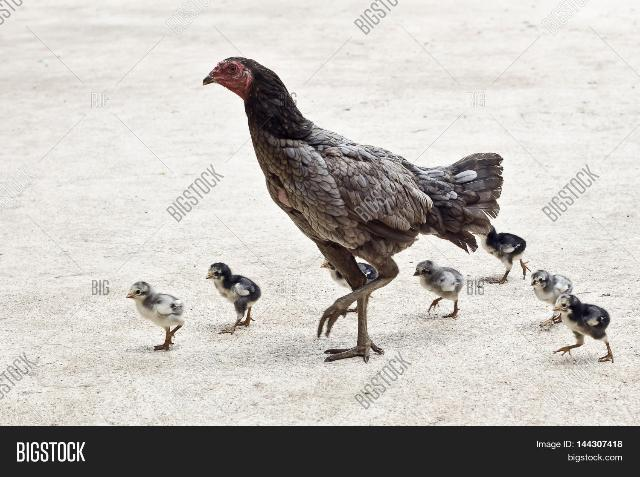Chicken: (202, 58, 503, 364)
